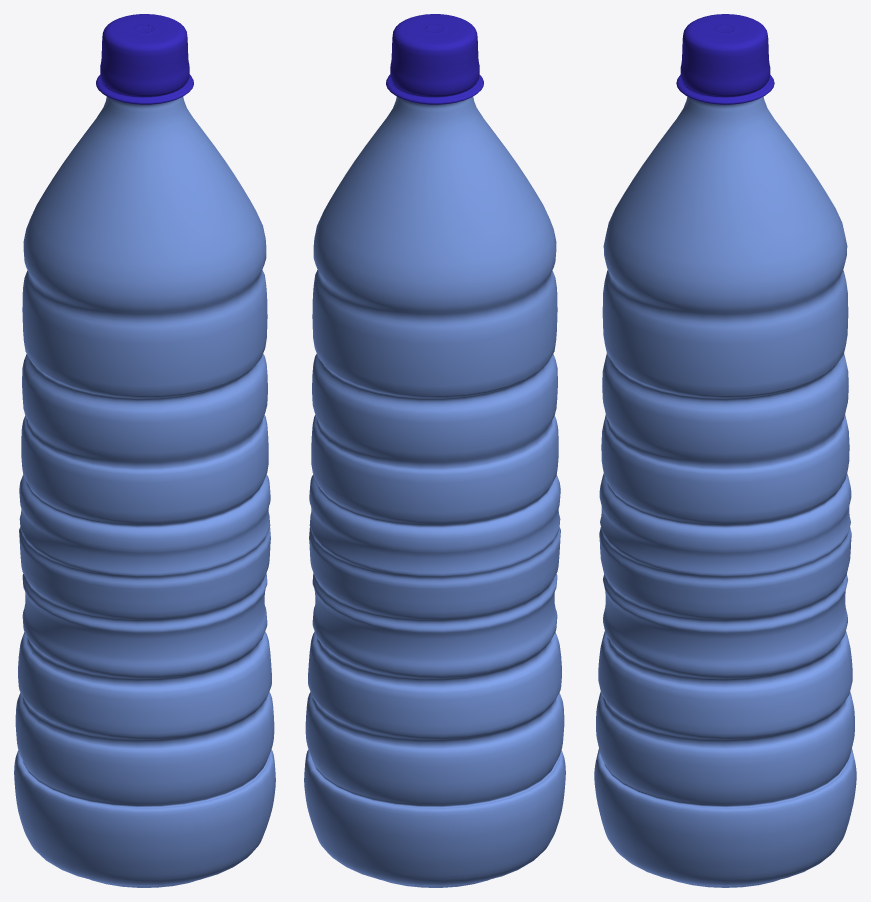
File: recyclable1.glb
3 views of the same model, side by side, from view 1: azimuth 30°, elevation 25°; view 2: azimuth 150°, elevation 25°; view 3: azimuth 270°, elevation 25° (orthographic).
Parts seen in each view (by area): view 1: Plastic_Bottle001, Plastic_Bottle; view 2: Plastic_Bottle001, Plastic_Bottle; view 3: Plastic_Bottle001, Plastic_Bottle.
Part boxes in pixels (left/top/right/bottom): Plastic_Bottle001: left=14, top=96, right=275, bottom=887; Plastic_Bottle: left=96, top=14, right=193, bottom=104; Plastic_Bottle001: left=304, top=96, right=565, bottom=887; Plastic_Bottle: left=386, top=14, right=483, bottom=104; Plastic_Bottle001: left=594, top=96, right=856, bottom=887; Plastic_Bottle: left=676, top=14, right=774, bottom=104.
Bounding box in the file's own units: 1.34 × 4.67 × 1.34.
